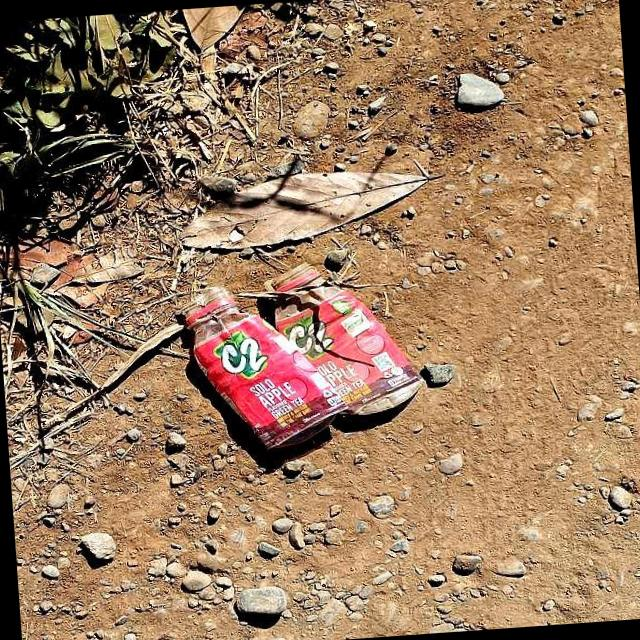Non-biodegradable: (155, 267, 363, 467), (241, 245, 436, 435)
